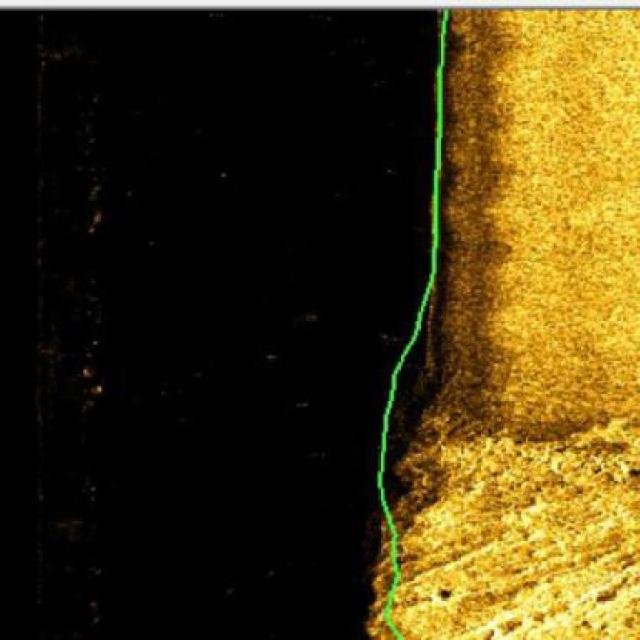bedrock group: (361, 408, 639, 640)
